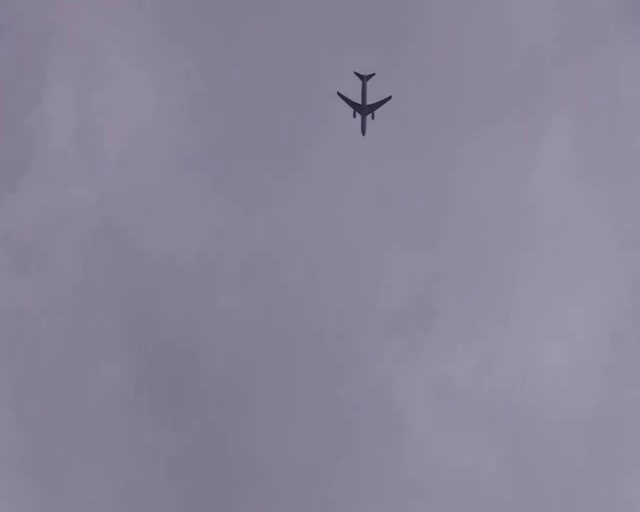AIRPLANE: (335, 70, 392, 136)
